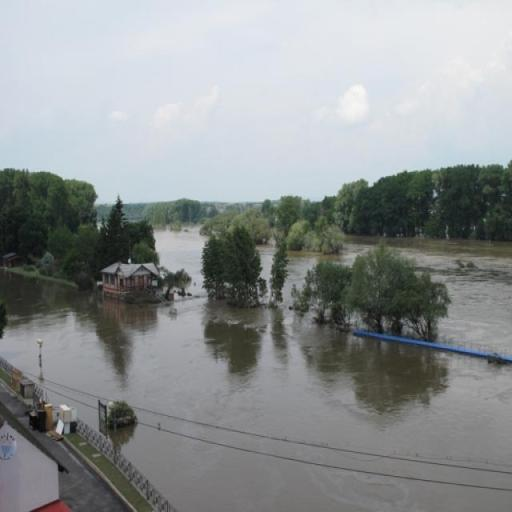flood: (0, 228, 512, 512), (258, 246, 274, 278)
house: (0, 415, 70, 512), (100, 261, 162, 299)
